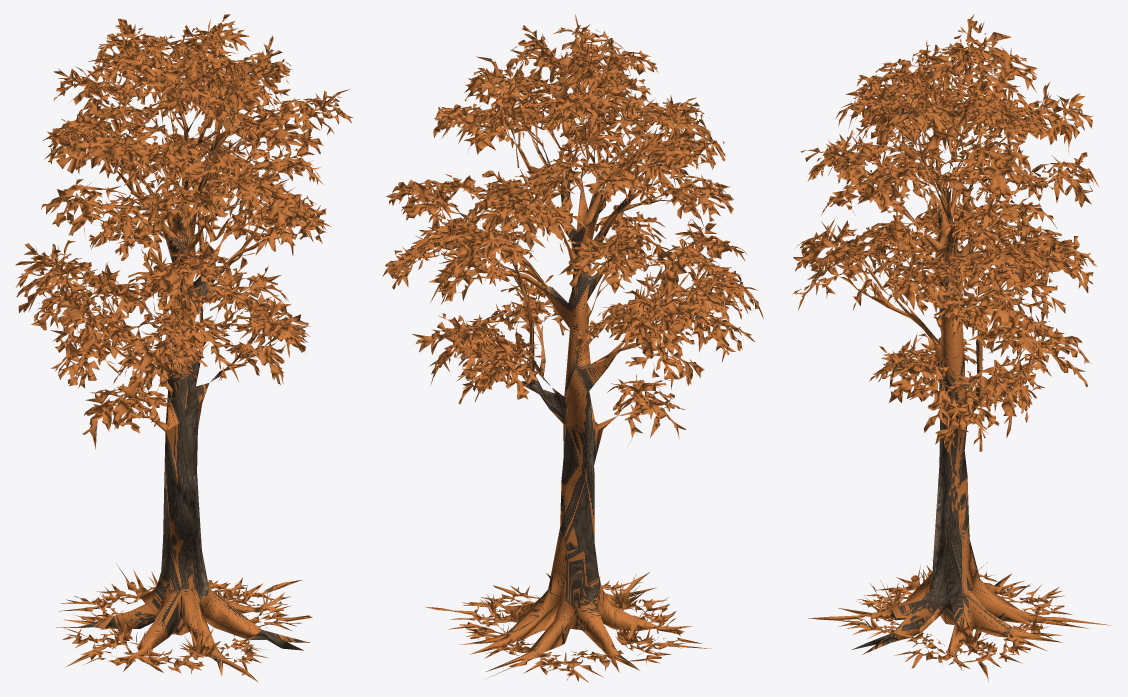
The model's file is tree_ember.glb.
3 renders of one model, left to right at view 1: azimuth 30°, elevation 25°; view 2: azimuth 150°, elevation 25°; view 3: azimuth 270°, elevation 25°, orthographic. The views are drawn at different scales.
Size of the model in its own units: 1.05 by 1.89 by 0.9407.
1 material, 1 textured.
